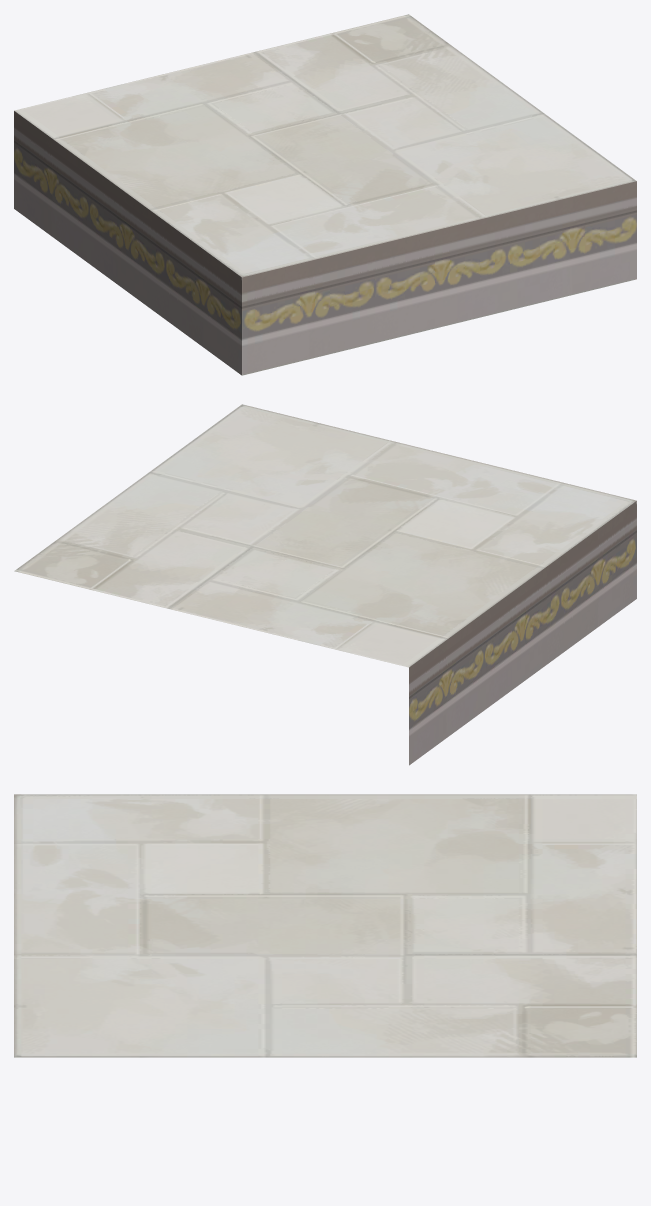
The model's file is my_teaparty_01_tile_2X2.glb.
3 renders of one model, top to bottom at view 1: azimuth 30°, elevation 25°; view 2: azimuth 150°, elevation 25°; view 3: azimuth 270°, elevation 25°, orthographic. The views are drawn at different scales.
Visible parts, largest first — view 1: my_teaparty_01_tile_2X2; view 2: my_teaparty_01_tile_2X2; view 3: my_teaparty_01_tile_2X2.
Part boxes in pixels (x1,y1,x2,y2): my_teaparty_01_tile_2X2: [14, 14, 636, 375]; my_teaparty_01_tile_2X2: [14, 404, 636, 765]; my_teaparty_01_tile_2X2: [14, 794, 636, 1057].
Bounding box in the file's own units: 0.012 × 0.00285 × 0.012.
1 material, 1 textured.
